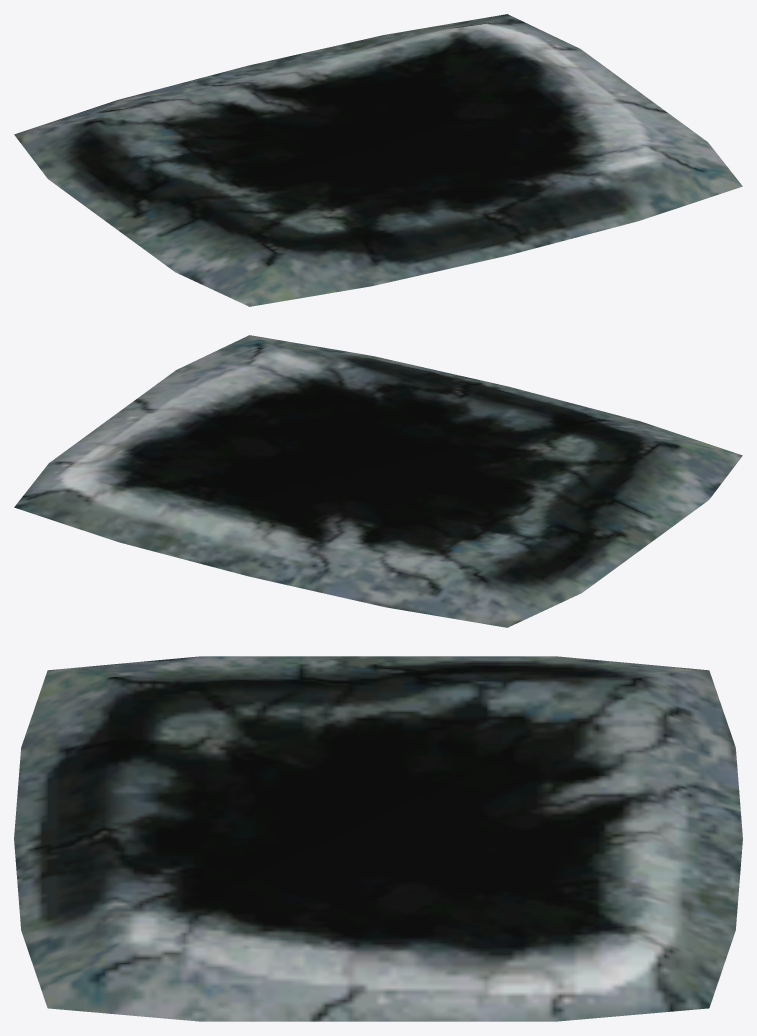
Rendered from INST_SM_WHIRLPOOL_CRACK.fbx.
3 views of the same model, one above another, from view 1: azimuth 30°, elevation 25°; view 2: azimuth 150°, elevation 25°; view 3: azimuth 270°, elevation 25° (orthographic). The views are drawn at different scales.
Visible parts, largest first — view 1: INST_SM_WHIRLPOOL_CRACK; view 2: INST_SM_WHIRLPOOL_CRACK; view 3: INST_SM_WHIRLPOOL_CRACK.
Part boxes in pixels (bbox=[...]): INST_SM_WHIRLPOOL_CRACK: bbox=[14, 14, 742, 306]; INST_SM_WHIRLPOOL_CRACK: bbox=[14, 335, 742, 627]; INST_SM_WHIRLPOOL_CRACK: bbox=[14, 656, 742, 1021].
Size of the model in its own units: 33864 by 1146 by 28569.
Materials: 1 (1 with a texture image).
